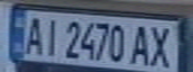0: (106, 20, 130, 64)
2: (60, 17, 81, 60)
4: (78, 18, 96, 61)
7: (93, 19, 112, 62)
A: (127, 21, 154, 66), (21, 14, 48, 56)
I: (39, 15, 63, 57)
X: (145, 22, 178, 69)
